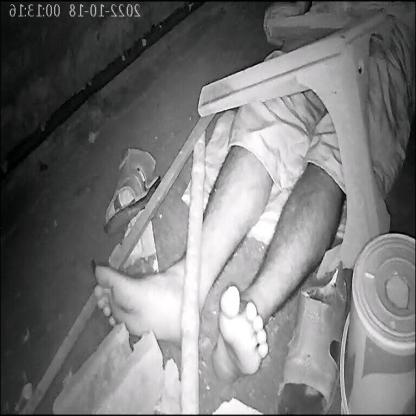leg: (88, 148, 273, 353), (208, 161, 347, 389)
